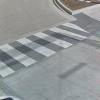Crosswalk: (3, 20, 78, 77)
